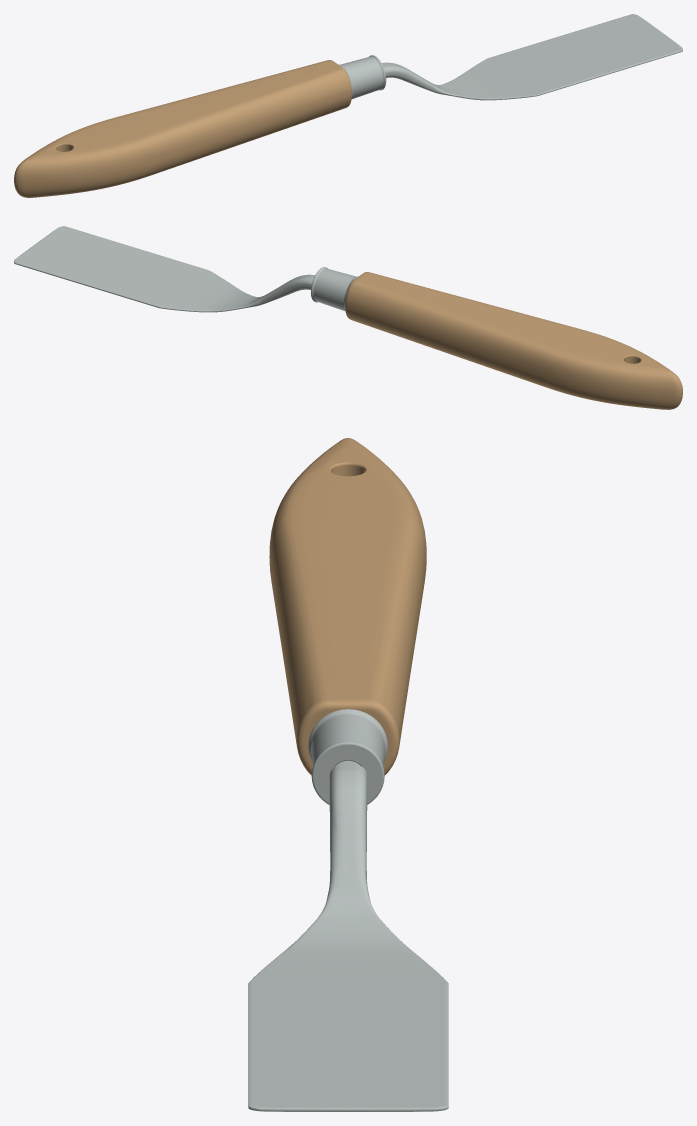
File: paint_supplies_palletknife_a05.glb
3 renders of one model, top to bottom at view 1: azimuth 30°, elevation 25°; view 2: azimuth 150°, elevation 25°; view 3: azimuth 270°, elevation 25°, orthographic. The views are drawn at different scales.
Bounding box in the file's own units: 0.1753 × 0.0152 × 0.0236.
